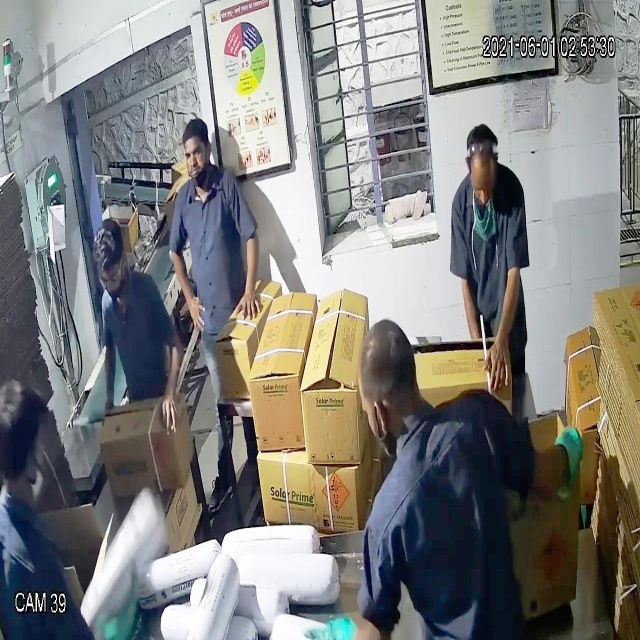Gafas: (95, 251, 128, 297)
Sin_gafas: (177, 139, 212, 171)
